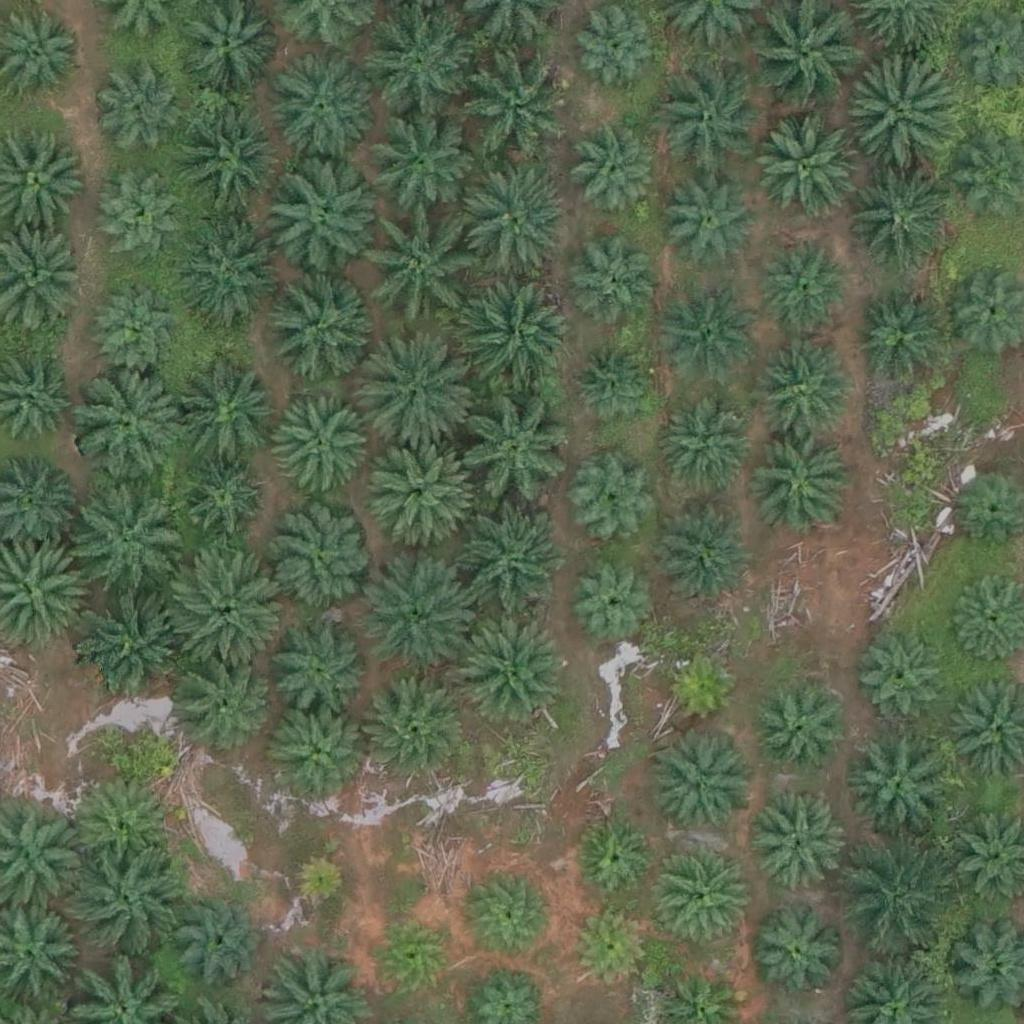Kelapa_Sawit: (364, 340, 477, 454), (840, 726, 953, 839), (841, 849, 954, 962), (462, 162, 575, 275), (458, 281, 571, 394), (451, 397, 564, 510), (258, 166, 371, 279), (66, 471, 179, 584), (79, 588, 192, 701), (450, 512, 562, 626), (454, 616, 566, 730), (356, 673, 468, 787), (69, 369, 181, 483), (759, 111, 871, 225), (173, 101, 285, 215), (845, 172, 957, 285), (364, 562, 476, 675), (364, 435, 476, 548), (371, 210, 483, 323), (256, 271, 368, 384), (174, 219, 286, 332), (171, 359, 283, 472), (171, 547, 283, 660), (74, 844, 186, 957), (849, 58, 961, 171), (649, 62, 761, 175), (460, 43, 572, 156), (362, 98, 474, 211), (361, 7, 473, 120), (268, 54, 380, 167), (754, 343, 854, 444), (750, 435, 850, 536), (751, 675, 851, 776), (751, 785, 851, 886), (744, 908, 844, 1009), (655, 391, 755, 492), (656, 500, 756, 601), (649, 737, 749, 838), (648, 845, 748, 946), (270, 397, 370, 498), (270, 509, 370, 610), (272, 618, 372, 719), (167, 657, 267, 758), (73, 774, 173, 875), (662, 165, 762, 265), (657, 294, 757, 394), (272, 704, 372, 804), (659, 641, 747, 729), (467, 869, 555, 957), (565, 901, 653, 989), (573, 812, 661, 900), (855, 632, 943, 720), (760, 239, 848, 327), (568, 557, 656, 645), (572, 449, 660, 537), (175, 455, 263, 543), (92, 285, 180, 373), (180, 894, 268, 982), (100, 70, 188, 158), (368, 911, 455, 999), (856, 295, 943, 383), (570, 341, 657, 429), (570, 236, 657, 324), (573, 124, 660, 212), (95, 175, 182, 263), (285, 852, 348, 915)
